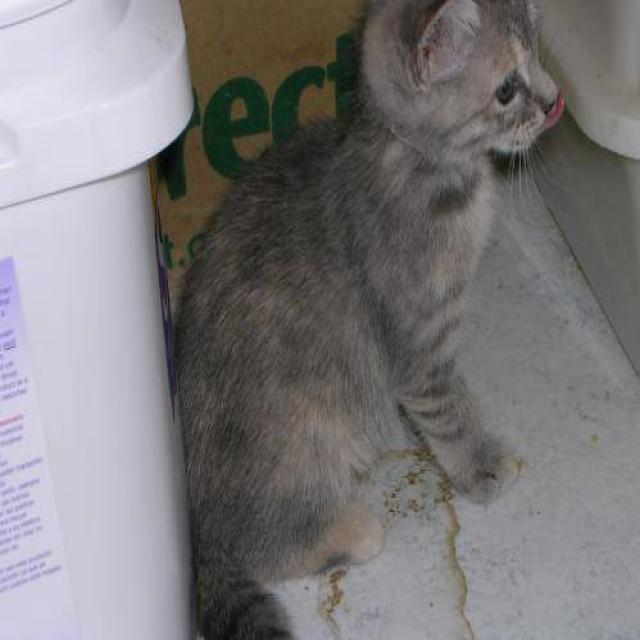Cat: (359, 0, 575, 207)
